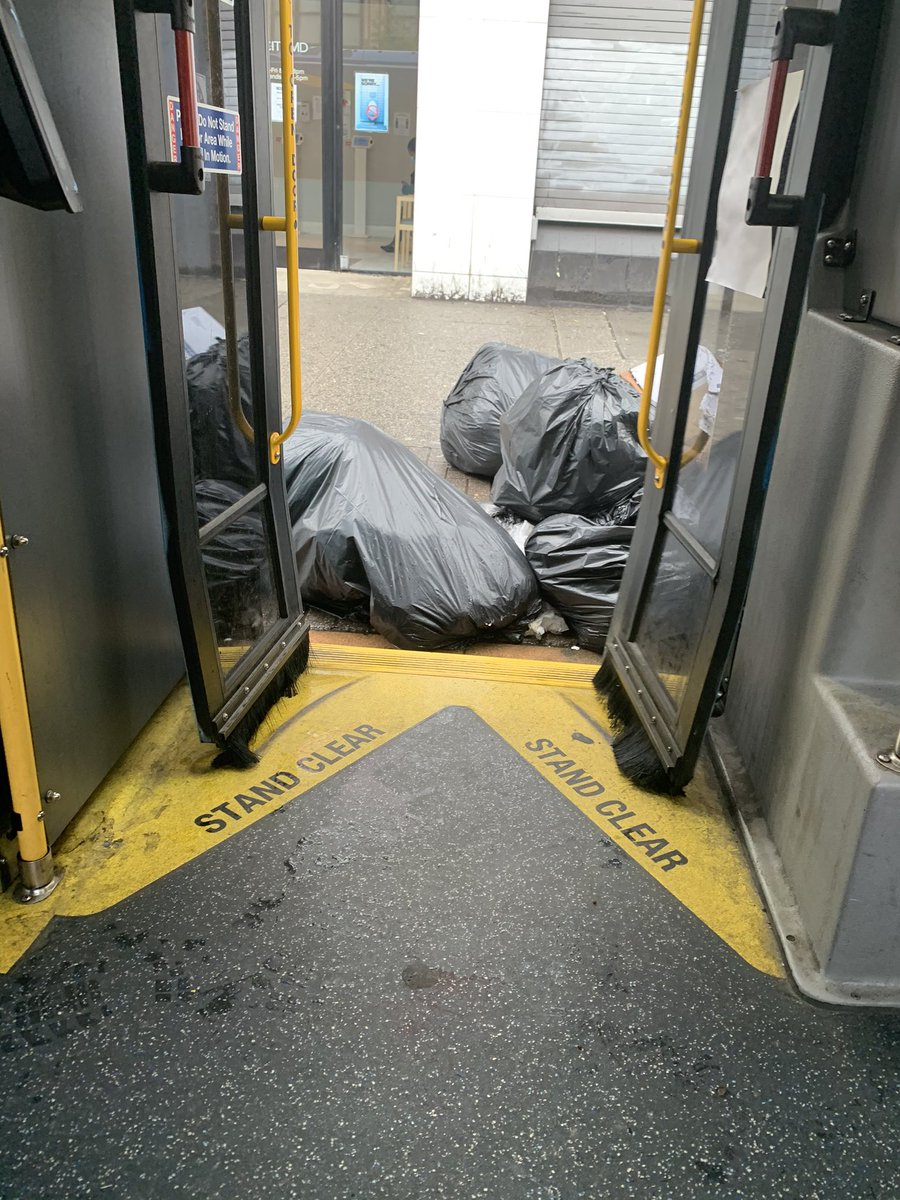trash: (291, 321, 662, 670)
